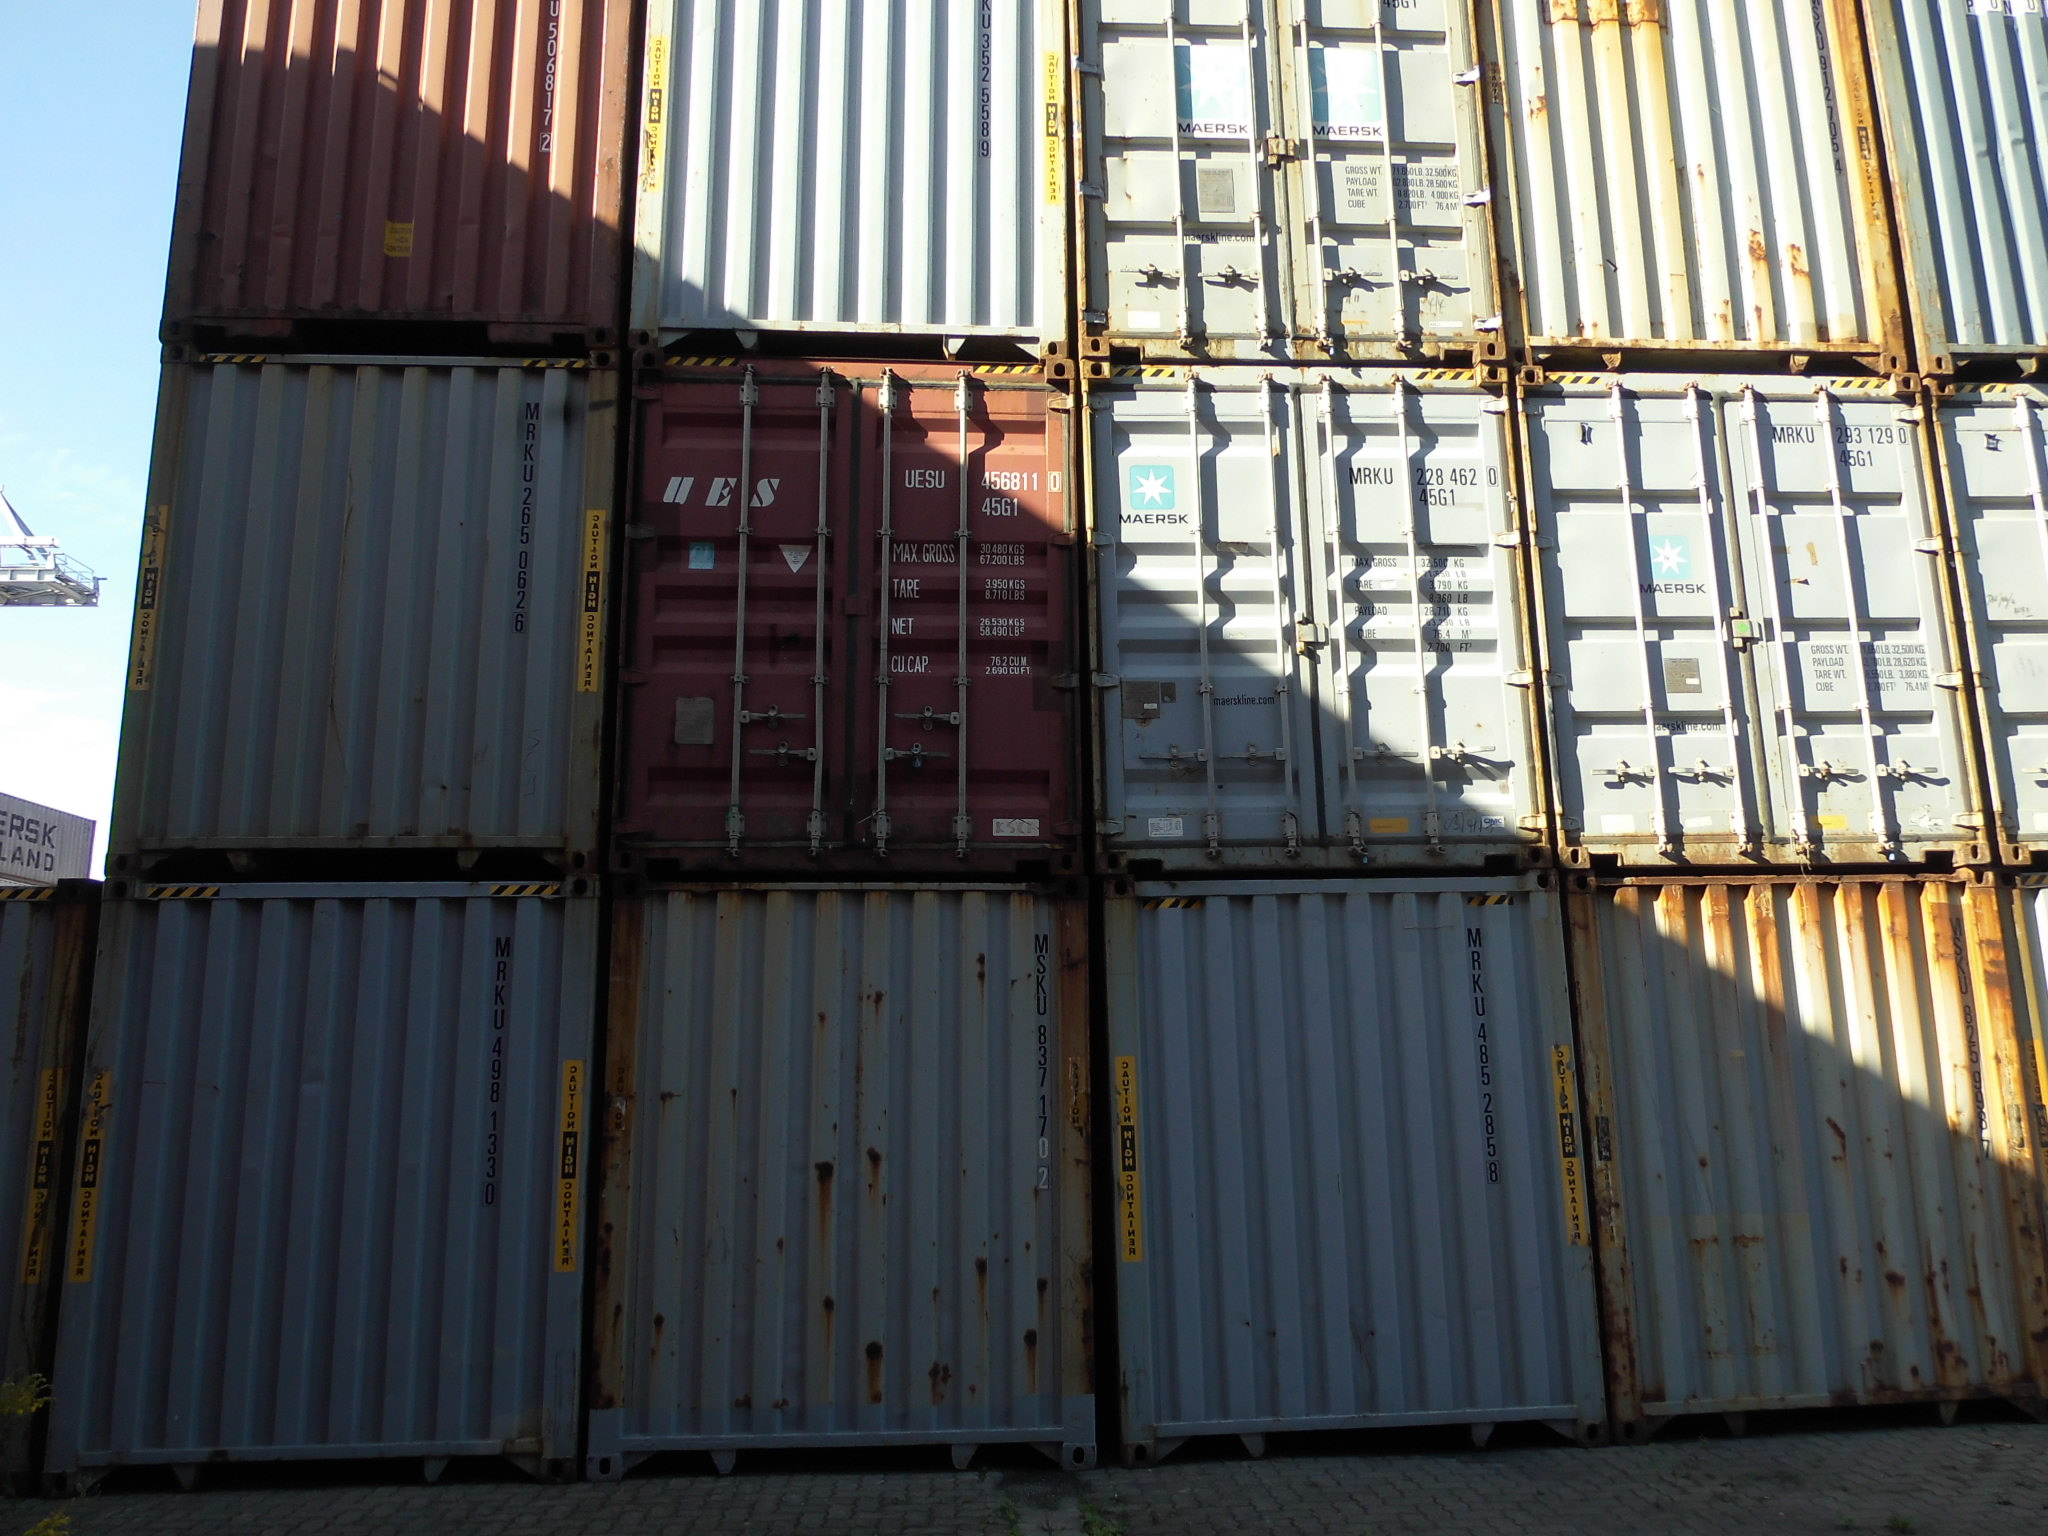container_door: (1534, 340, 1987, 874), (1084, 352, 1535, 884), (635, 342, 1085, 874), (1084, 2, 1498, 360)
container_no_door: (82, 868, 598, 1501), (592, 866, 1101, 1475), (1090, 871, 1605, 1455), (1593, 879, 2046, 1467), (161, 365, 605, 868), (1498, 5, 1916, 336), (202, 2, 619, 331), (648, 2, 1066, 329)
